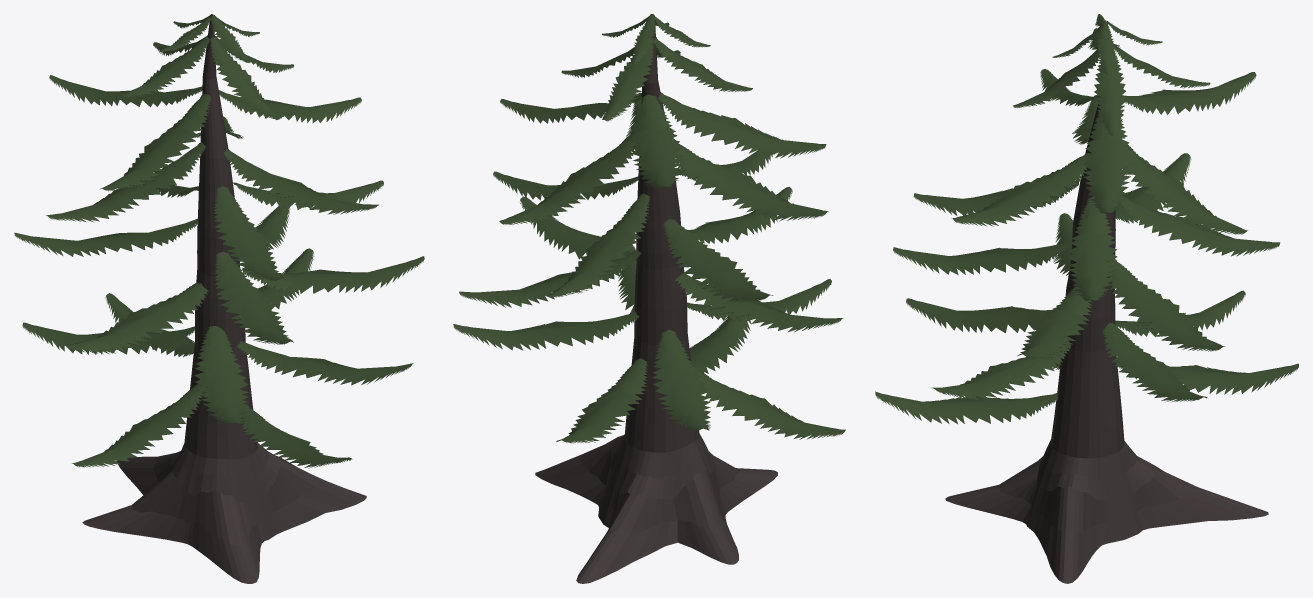
Rendered from PineTree_mesh 1.fbx.
3 renders of one model, left to right at view 1: azimuth 30°, elevation 25°; view 2: azimuth 150°, elevation 25°; view 3: azimuth 270°, elevation 25°, orthographic.
Parts seen in each view (by area): view 1: pCylinder1, pPlane27, pPlane12, pPlane28, pPlane8, pPlane10, pPlane11, pPlane25, pPlane3, pPlane4, pPlane24, pPlane30 (+11 smaller); view 2: pCylinder1, pPlane25, pPlane26, pPlane24, pPlane10, pPlane13, pPlane7, pPlane5, pPlane23, pPlane11, pPlane2, pPlane12 (+13 smaller); view 3: pCylinder1, pPlane29, pPlane6, pPlane1, pPlane9, pPlane30, pPlane5, pPlane23, pPlane28, pPlane7, pPlane3, pPlane4 (+13 smaller).
Part boxes in pixels (box(x1,y1,x2,y2)): pCylinder1: box(82, 19, 366, 583); pPlane27: box(194, 326, 248, 424); pPlane12: box(64, 282, 208, 354); pPlane28: box(214, 251, 293, 344); pPlane8: box(214, 186, 284, 280); pPlane10: box(100, 93, 210, 191); pPlane11: box(72, 384, 206, 467); pPlane25: box(46, 142, 206, 222); pPlane3: box(236, 341, 413, 385); pPlane4: box(242, 256, 424, 293); pPlane24: box(14, 218, 198, 256); pPlane30: box(223, 149, 378, 214); pCylinder1: box(535, 20, 777, 583); pPlane25: box(671, 138, 828, 221); pPlane26: box(652, 329, 710, 430); pPlane24: box(663, 219, 773, 302); pPlane10: box(658, 92, 826, 158); pPlane13: box(631, 94, 681, 189); pPlane7: box(548, 193, 649, 297); pPlane5: box(453, 312, 639, 350); pPlane23: box(499, 130, 638, 224); pPlane11: box(690, 366, 845, 439); pPlane2: box(556, 358, 647, 443); pPlane12: box(675, 273, 843, 332); pCylinder1: box(945, 97, 1268, 583); pPlane29: box(1108, 258, 1225, 351); pPlane6: box(1067, 197, 1117, 301); pPlane1: box(875, 391, 1057, 423); pPlane9: box(1082, 109, 1132, 213); pPlane30: box(951, 153, 1089, 226); pPlane5: box(1102, 322, 1207, 402); pPlane23: box(1123, 144, 1247, 234); pPlane28: box(893, 240, 1072, 275); pPlane7: box(1118, 196, 1280, 256); pPlane3: box(931, 340, 1071, 400); pPlane4: box(1017, 286, 1092, 359).
Bounding box in the file's own units: 13.16 × 18.51 × 14.28.
